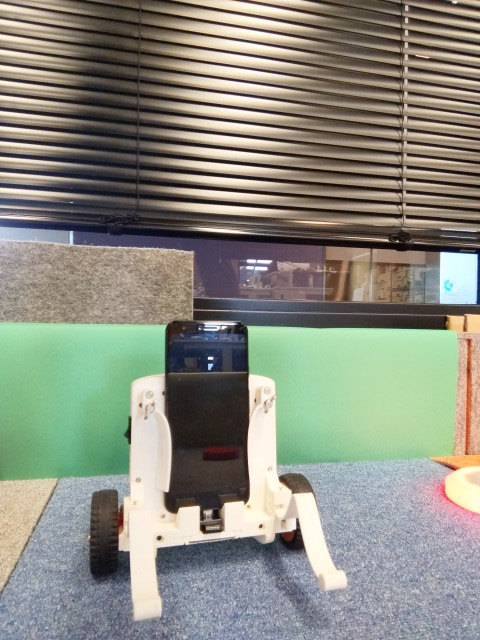f: (80, 308, 354, 625)
r: (443, 460, 480, 518)
